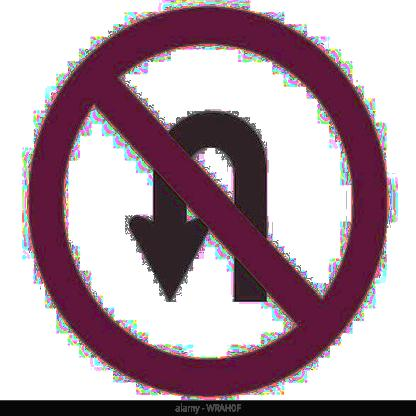No U-turn: (27, 4, 402, 399)
